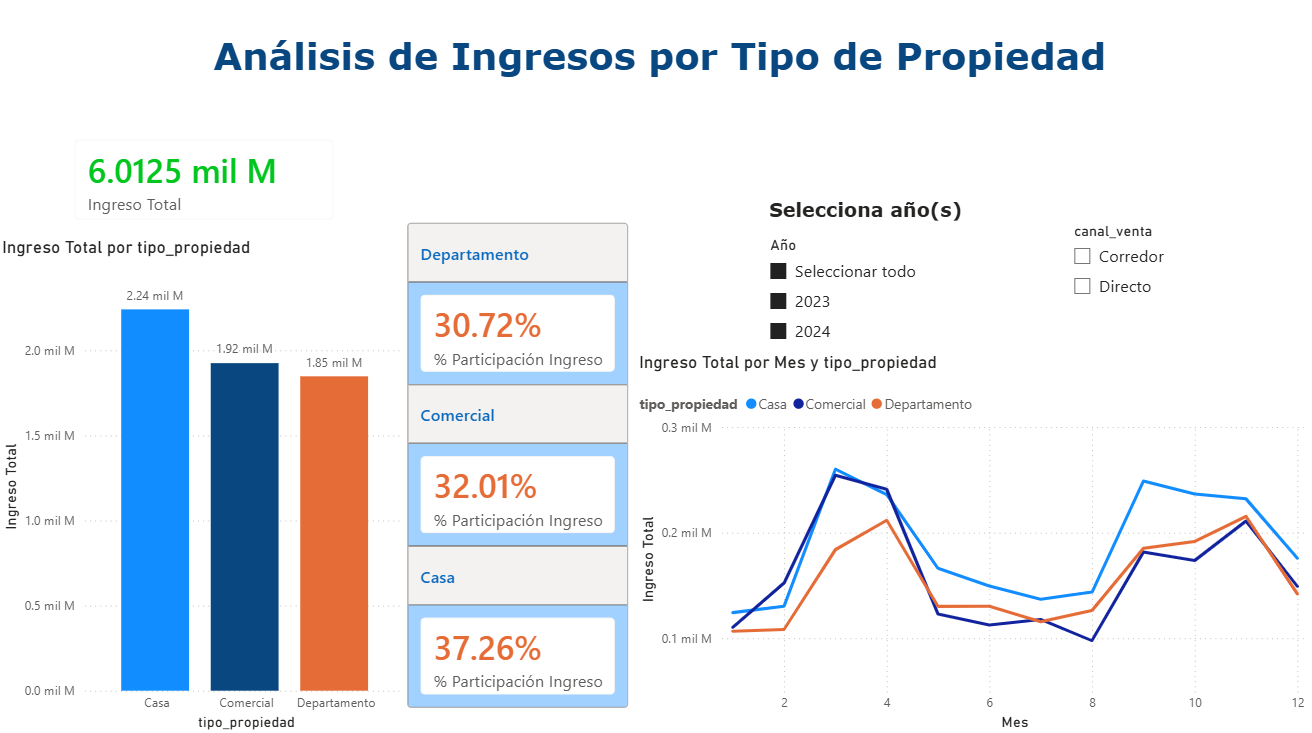

The dashboard page shown, as its layout file describes it:
{"tool":"powerbi","page":{"name":"Tipo de propiedad","canvas":[1280,720],"ordinal":1},"visuals":[{"type":"textbox","title":"Análisis de Ingresos por Tipo de Propiedad","box":[10.1,37.4,1269.9,51.6],"z":0},{"type":"clusteredColumnChart","fields":{"Category":["dim_propiedades.tipo_propiedad"],"Y":["DIM_fecha.Ingreso Total"]},"box":[0,235.6,404.4,484.3],"z":1000},{"type":"cardVisual","fields":{"Data":["DIM_fecha.Ingreso Total"]},"box":[58.6,123.3,286.1,112.2],"z":2000},{"type":"lineChart","fields":{"Y":["DIM_fecha.Ingreso Total"],"Category":["DIM_fecha.Mes"],"Series":["dim_propiedades.tipo_propiedad"]},"box":[619.8,346.8,660.2,373.1],"z":3000},{"type":"slicer","title":"Selecciona año(s)","fields":{"Values":["DIM_fecha.Año"]},"box":[739.1,196.1,211.3,149.6],"z":4000},{"type":"slicer","fields":{"Values":["hecho_ventas_propiedades.canal_venta"]},"box":[1035.3,216.4,165.8,111.2],"z":5000},{"type":"cardVisual","fields":{"Data":["DIM_fecha.% Participación Ingreso"],"Rows":["hecho_ventas_propiedades.tipo_propiedad"]},"box":[394.3,196.1,225.5,523.7],"z":6000}]}

Visuals, with their boxes in screenshot pixels (x1, y1, x2, y2), scaled from the page's 1280x720 canvas onto the 1312x733 screenshot:
"Análisis de Ingresos por Tipo de Propiedad" textbox: Rect(10, 38, 1311, 91)
clusteredColumnChart - dim_propiedades.tipo_propiedad x DIM_fecha.Ingreso Total: Rect(0, 240, 415, 732)
cardVisual - DIM_fecha.Ingreso Total: Rect(60, 126, 353, 240)
lineChart - DIM_fecha.Ingreso Total x DIM_fecha.Mes: Rect(635, 353, 1311, 732)
"Selecciona año(s)" slicer: Rect(758, 200, 974, 352)
slicer - hecho_ventas_propiedades.canal_venta: Rect(1061, 220, 1231, 334)
cardVisual - DIM_fecha.% Participación Ingreso x hecho_ventas_propiedades.tipo_propiedad: Rect(404, 200, 635, 732)
